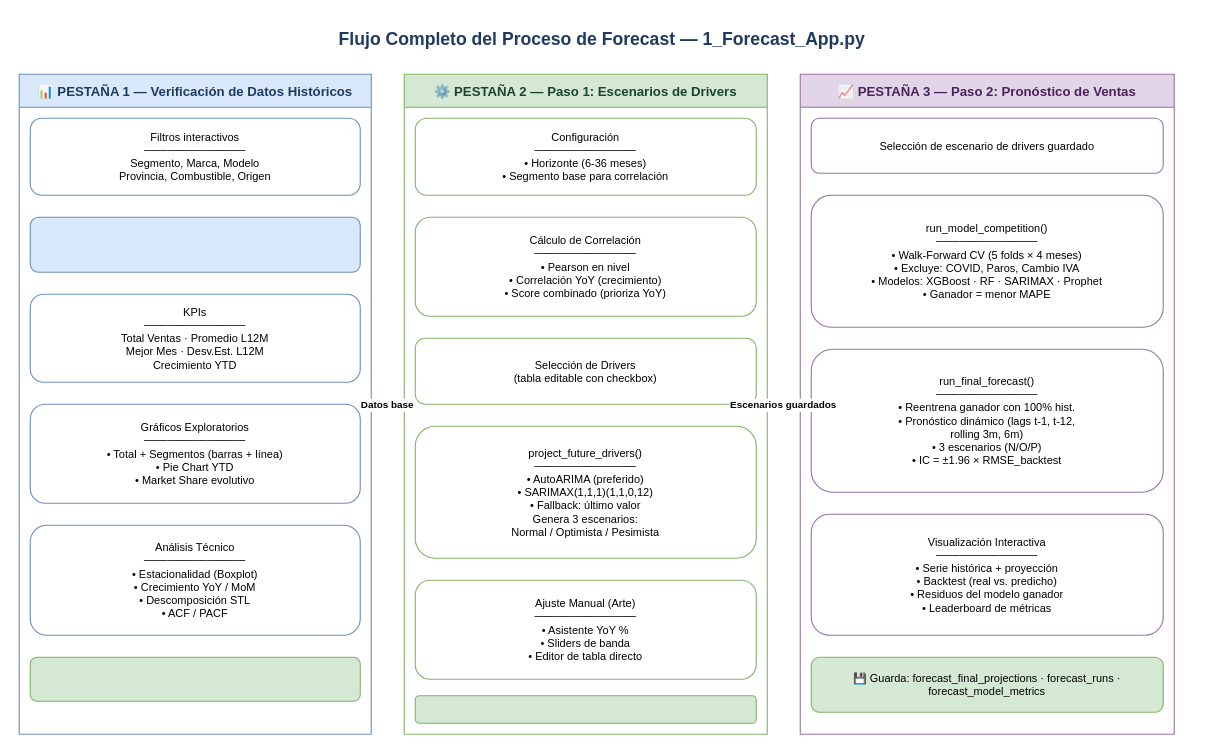
Image size: 1205x754. Some labels were removed from this diagram. Each missing label, with the centre of its shape:
"Consulta SQL dinámica → sales_granular" belongs at point (194, 244).
"💾 Exportación CSV" belongs at point (194, 678).
"💾 Guardado → forecast_driver_scenarios" belongs at point (585, 709).
